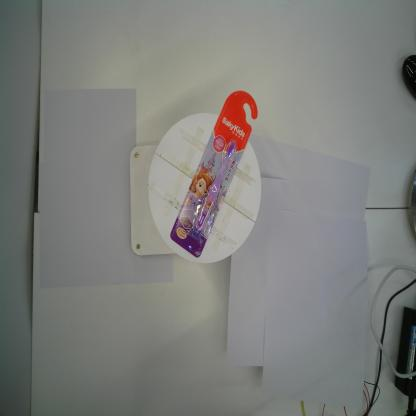Personal Hygiene: (170, 90, 258, 259)
